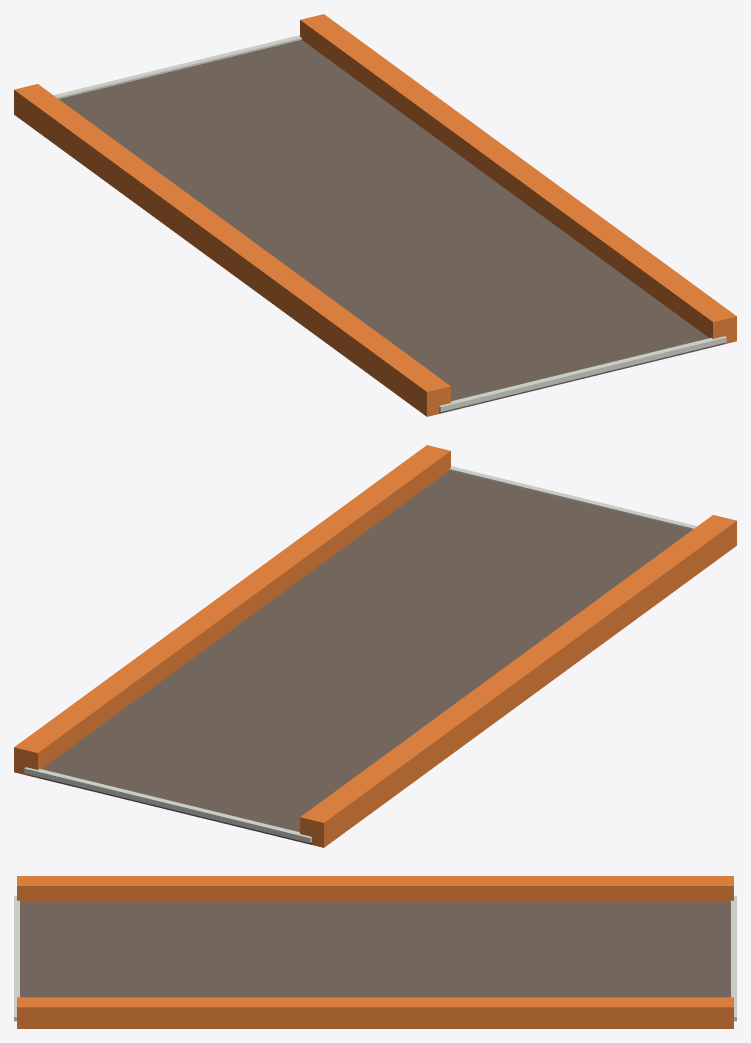
File: SM_MP_Solar_RollOut.fbx
3 views of the same model, one above another, from view 1: azimuth 30°, elevation 25°; view 2: azimuth 150°, elevation 25°; view 3: azimuth 270°, elevation 25° (orthographic). The views are drawn at different scales.
Visible parts, largest first — view 1: SM_MP_Solar_RollOut; view 2: SM_MP_Solar_RollOut; view 3: SM_MP_Solar_RollOut.
Boxes of the visible parts, x1,y1,x2,y2 form: SM_MP_Solar_RollOut: (14,14,736,416); SM_MP_Solar_RollOut: (14,445,736,847); SM_MP_Solar_RollOut: (14,876,736,1028).
Size of what is drawn, in the model's own units: 260 by 605 by 20.
